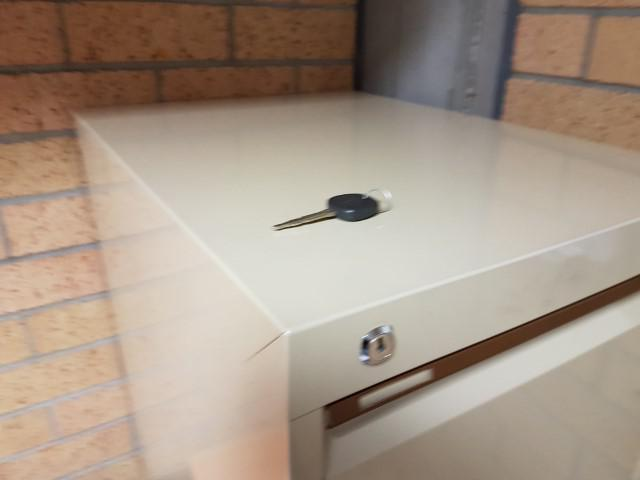key: (272, 192, 379, 231)
